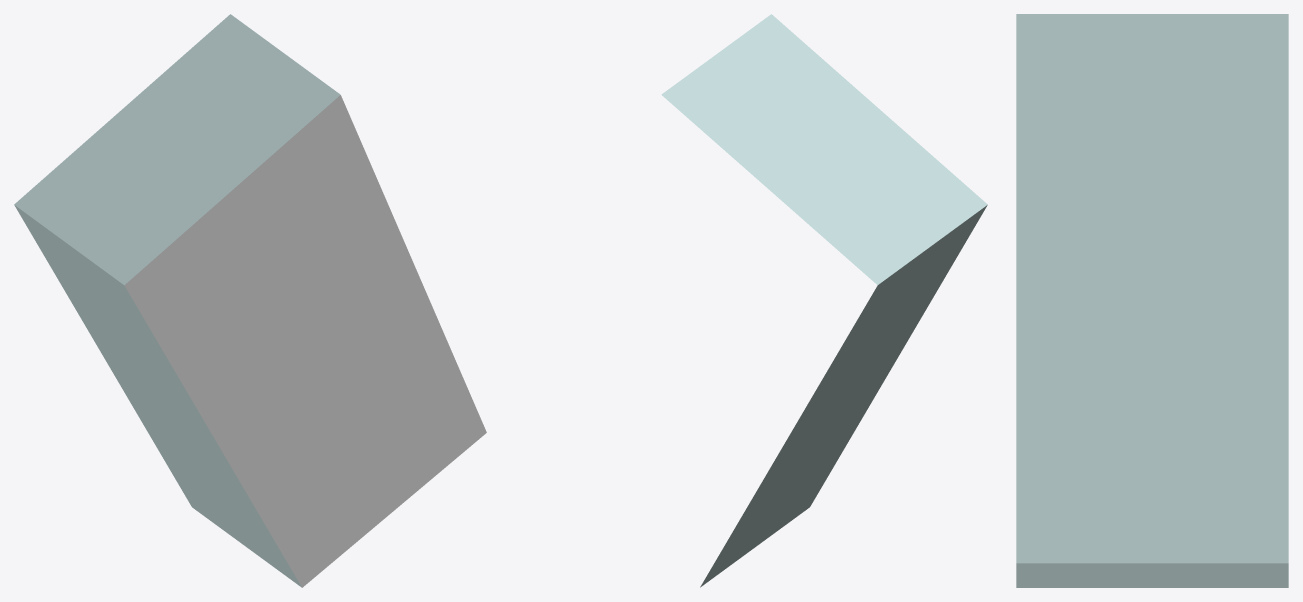
The picture shows the model from 3 angles, left to right: view 1: azimuth 30°, elevation 25°; view 2: azimuth 150°, elevation 25°; view 3: azimuth 270°, elevation 25°; orthographic projection. The views are drawn at different scales.
Parts seen in each view (by area): view 1: 0_1_2_1_0_2_0_0_2; view 2: 0_1_2_1_0_2_0_0_2; view 3: 0_1_2_1_0_2_0_0_2.
Boxes of the visible parts, x1,y1,x2,y2 form: 0_1_2_1_0_2_0_0_2: (14, 14, 486, 587); 0_1_2_1_0_2_0_0_2: (661, 14, 987, 587); 0_1_2_1_0_2_0_0_2: (1016, 14, 1288, 587).
Size of the model in its own units: 5.7 by 7.26 by 3.
